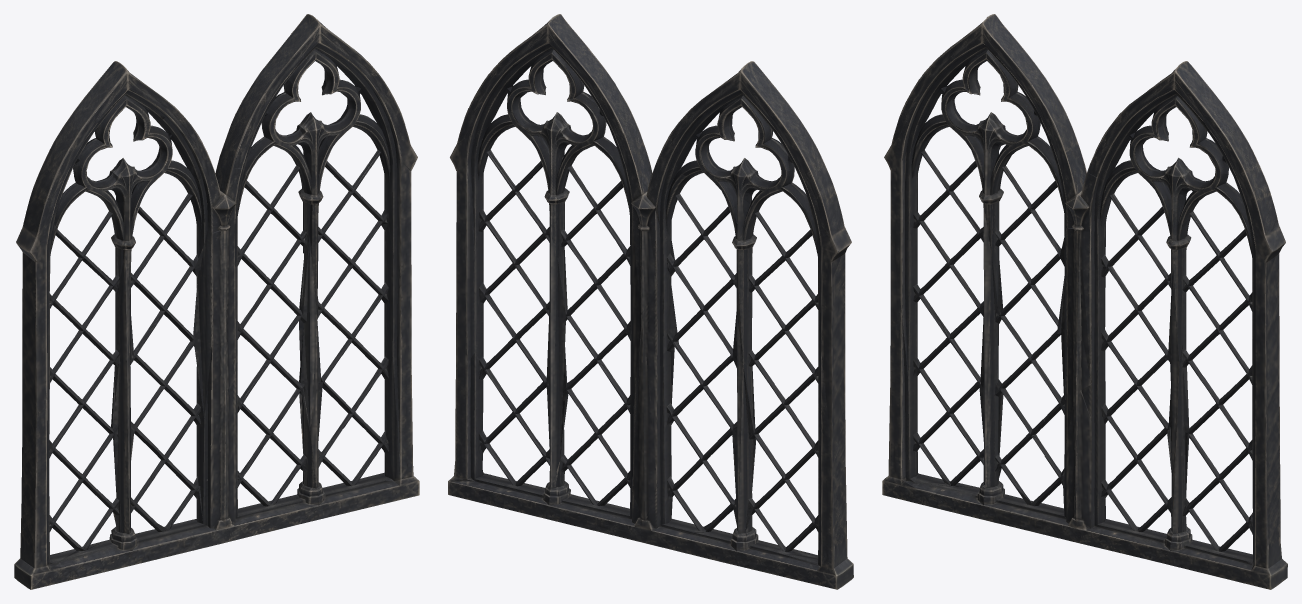
Rendered from window_gothic_double.glb.
3 views of the same model, side by side, from view 1: azimuth 30°, elevation 25°; view 2: azimuth 150°, elevation 25°; view 3: azimuth 330°, elevation 25° (orthographic).
Parts seen in each view (by area): view 1: output_unwrapped; view 2: output_unwrapped; view 3: output_unwrapped.
Part boxes in pixels (<box>): output_unwrapped: <box>14,14,419,589</box>; output_unwrapped: <box>448,14,853,589</box>; output_unwrapped: <box>882,14,1287,589</box>.
Size of the model in its own units: 1.57 by 1.9 by 0.1687.
Materials: 1 (1 with a texture image).
